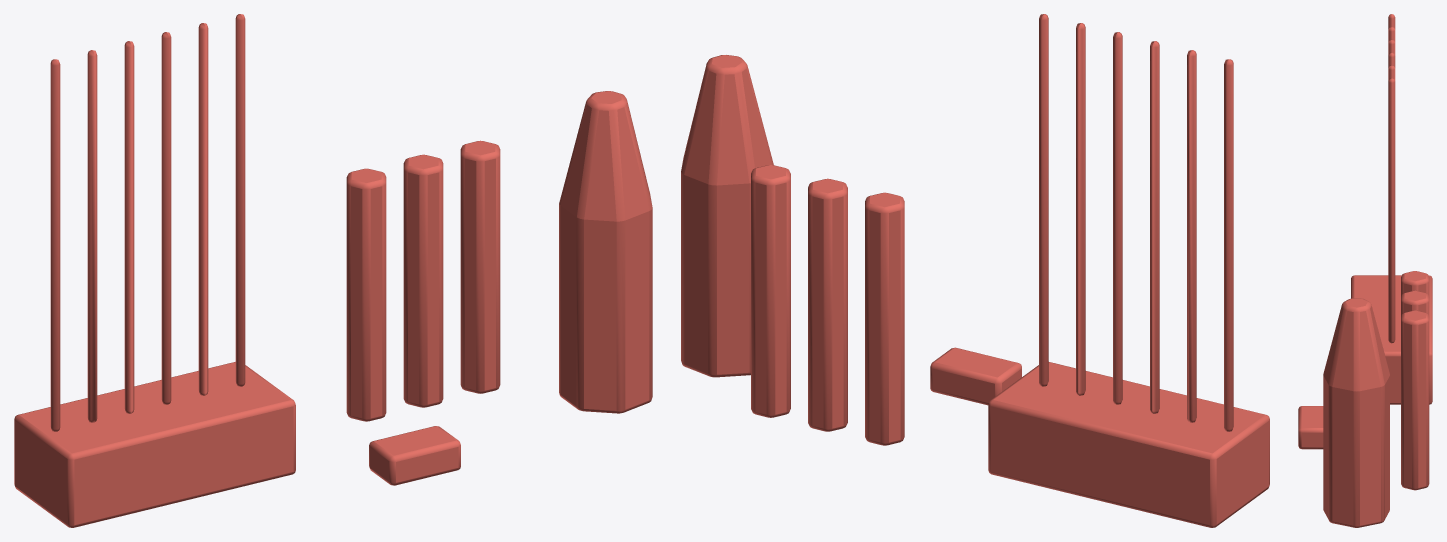
Rendered from HuongNen_DuTru.glb.
3 renders of one model, left to right at view 1: azimuth 30°, elevation 25°; view 2: azimuth 150°, elevation 25°; view 3: azimuth 270°, elevation 25°, orthographic. The views are drawn at different scales.
Visible parts, largest first — view 1: HuongNen_DuTru; view 2: HuongNen_DuTru; view 3: HuongNen_DuTru.
Part boxes in pixels (x1,y1,x2,y2): HuongNen_DuTru: (14,14,652,527); HuongNen_DuTru: (681,14,1269,527); HuongNen_DuTru: (1298,14,1432,527).
Bounding box in the file's own units: 0.4092 × 0.3 × 0.115.
